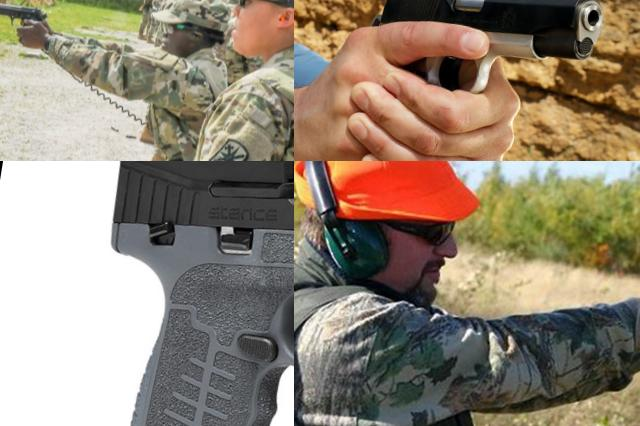handgun: (66, 161, 294, 426), (339, 0, 612, 161), (0, 0, 52, 35)
